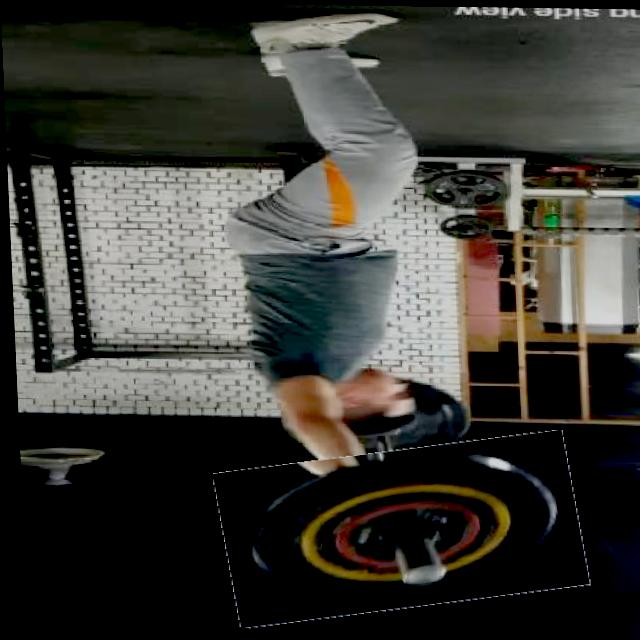barbell: (213, 437, 583, 620)
